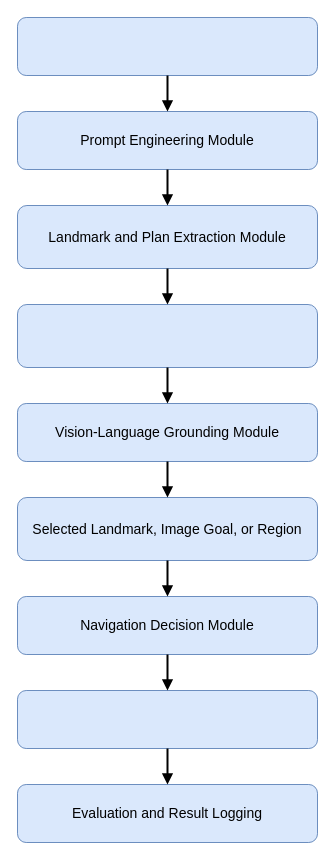
Some shapes in this 335 by 860 pixel diagram are drawn without their labels. Each missing label, with the box of its shape:
Action, Waypoint, or Goal Output: (16, 690, 318, 748)
Structured Navigation Representation: (16, 304, 318, 368)
User Navigation Instruction: (16, 16, 318, 76)
